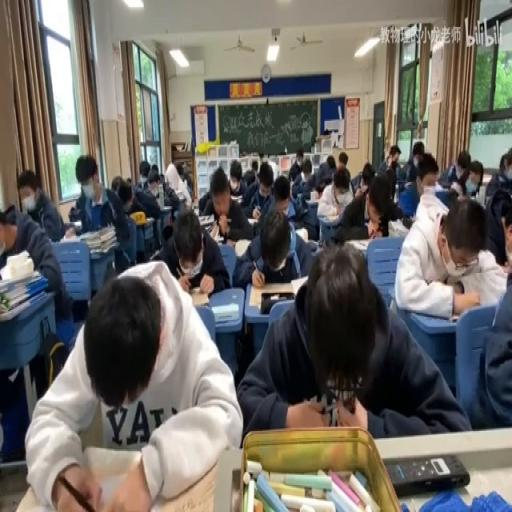calculator: (145, 455, 217, 511), (247, 278, 304, 308), (0, 266, 42, 292), (210, 300, 238, 322), (448, 304, 474, 322), (187, 288, 210, 306), (386, 218, 408, 236), (234, 236, 251, 256), (346, 238, 369, 252), (200, 218, 215, 234), (434, 179, 451, 192), (57, 230, 79, 240), (294, 225, 308, 240), (70, 219, 82, 232), (175, 189, 187, 201), (230, 194, 244, 204), (246, 214, 258, 224), (306, 196, 319, 205), (404, 179, 414, 189), (481, 174, 491, 184), (144, 216, 154, 223), (192, 202, 198, 213)
paper: (27, 258, 241, 509), (238, 243, 466, 440), (2, 189, 74, 340), (458, 259, 510, 427), (71, 154, 135, 273), (232, 202, 313, 289), (335, 168, 402, 243), (195, 168, 253, 246), (128, 172, 165, 243), (243, 162, 276, 222), (484, 148, 512, 206), (298, 154, 330, 198), (440, 148, 470, 192), (397, 141, 423, 185), (378, 144, 402, 180), (0, 219, 17, 256), (272, 176, 290, 206), (288, 148, 302, 183), (162, 181, 178, 209), (468, 161, 483, 189), (180, 165, 192, 198), (2, 202, 16, 225), (146, 163, 160, 185), (334, 178, 348, 199), (362, 164, 374, 188), (110, 174, 124, 194), (395, 171, 408, 192), (67, 203, 80, 219), (325, 155, 335, 171), (174, 161, 184, 176), (302, 164, 312, 179), (356, 180, 366, 194), (338, 151, 347, 166), (250, 158, 258, 171), (159, 174, 165, 186), (125, 176, 131, 184)
person: (384, 452, 468, 494)
